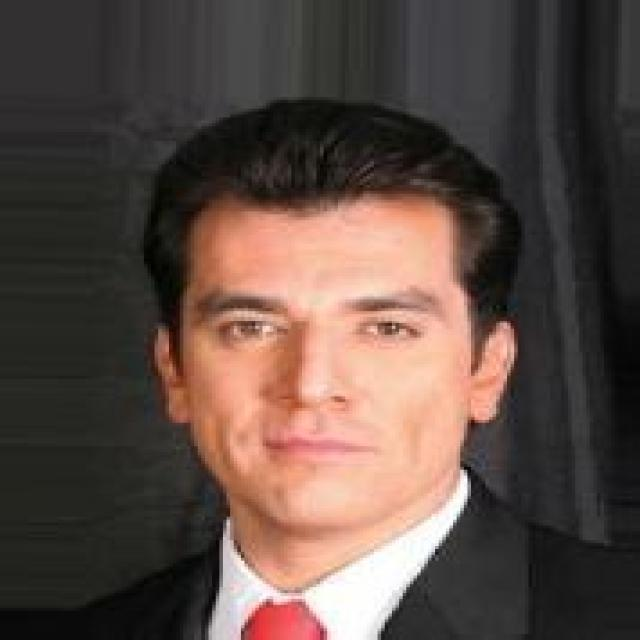bareface: (162, 180, 476, 514)
